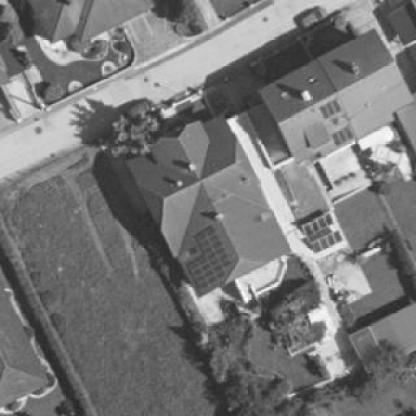solar-pv-panel: (309, 230, 341, 254), (301, 214, 334, 237), (331, 126, 354, 146), (319, 100, 341, 119)
